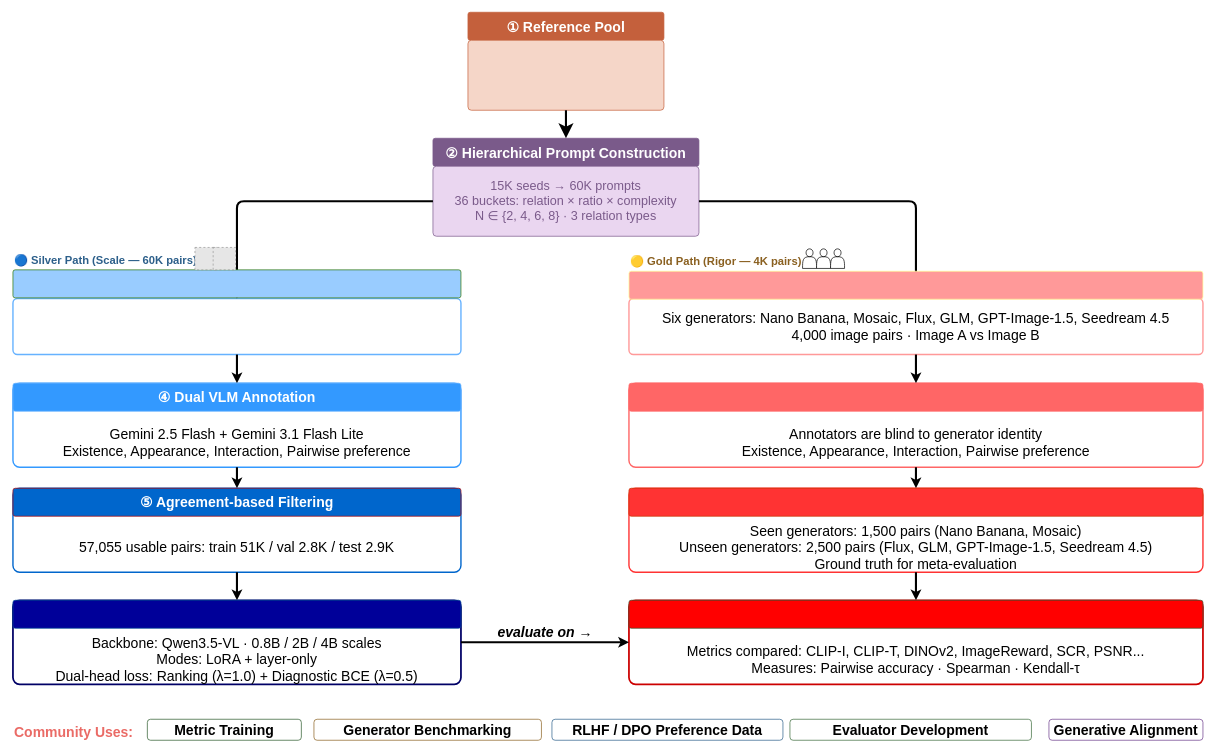
Some shapes in this 1216 by 753 pixel diagram are drawn without their labels. Grey dashed boxes stand in for pictures. The centre of each missing label's shape, as x and y in pixels:
"80 reference images 30 Human + 50 Object 512 × 512 px" belongs at point (565, 75).
"Two generators: Nano Banana & Mosaic 60K image pairs · Image A vs Image B" belongs at point (236, 326).
"③ Gold Set Generation" belongs at point (915, 285).
"③ Silver Set Generation" belongs at point (236, 283).
"④ Double-blind Human Annotation" belongs at point (915, 397).
"⑤ Gold Evaluation Set (4K pairs)" belongs at point (915, 502).
"⑥ MIE Training (on Silver Set)" belongs at point (236, 614).
"⑦ MIE Evaluation (on Gold Set)" belongs at point (915, 614).
